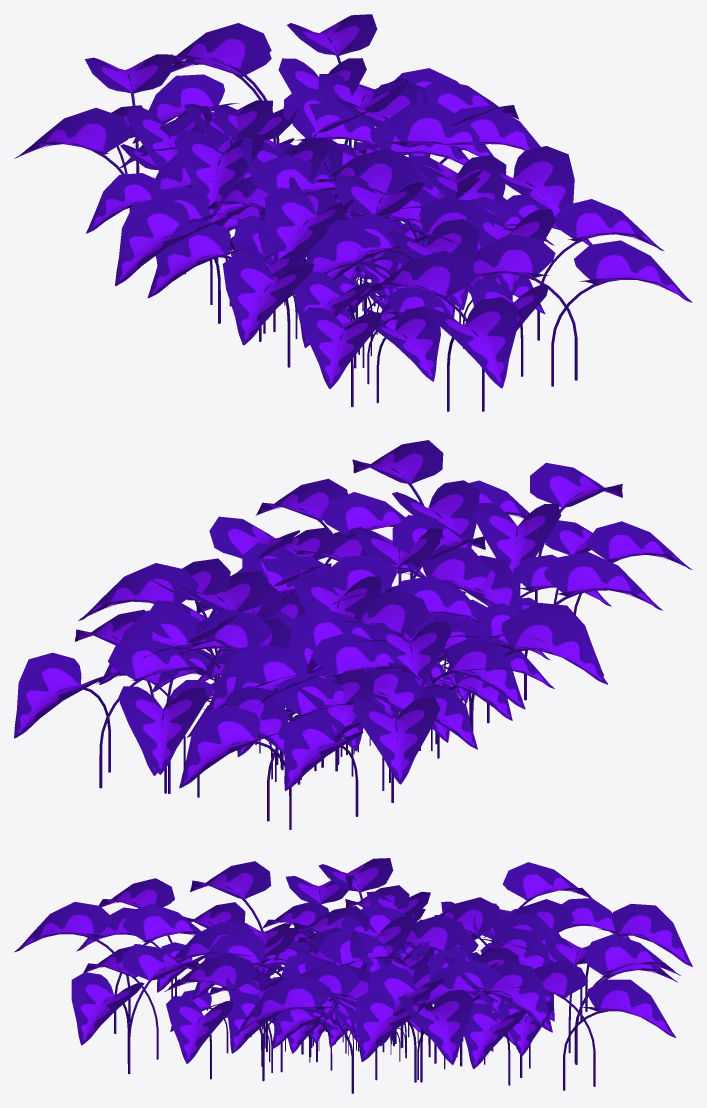
File: LeafClusters.fbx
3 renders of one model, top to bottom at view 1: azimuth 30°, elevation 25°; view 2: azimuth 150°, elevation 25°; view 3: azimuth 270°, elevation 25°, orthographic. The views are drawn at different scales.
Visible parts, largest first — view 1: VL_RandomLarge, VLRandomMedium, VLDirectionalMedium, VLRandomSmall; view 2: VL_RandomLarge, VLRandomMedium, VLDirectionalMedium, VLRandomSmall; view 3: VL_RandomLarge, VLRandomMedium, VLDirectionalMedium, VLRandomSmall.
Part boxes in pixels (<box>): VL_RandomLarge: <box>14,14,692,411</box>; VLRandomMedium: <box>119,74,574,341</box>; VLDirectionalMedium: <box>183,86,506,290</box>; VLRandomSmall: <box>208,139,423,297</box>; VL_RandomLarge: <box>14,440,692,829</box>; VLRandomMedium: <box>78,515,603,771</box>; VLDirectionalMedium: <box>174,528,465,771</box>; VLRandomSmall: <box>290,576,493,714</box>; VL_RandomLarge: <box>14,858,692,1090</box>; VLRandomMedium: <box>174,875,552,1093</box>; VLDirectionalMedium: <box>191,913,559,1063</box>; VLRandomSmall: <box>256,903,474,1051</box>.
Size of the model in its own units: 35.55 by 9.2 by 54.26.
1 material, 1 textured.
